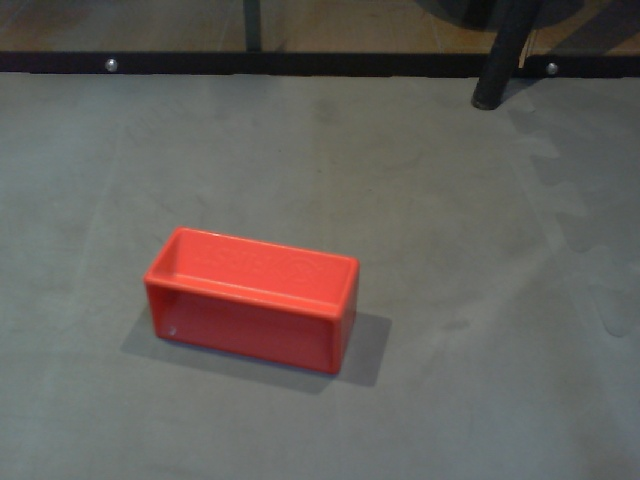RedSample: (141, 221, 361, 379)
